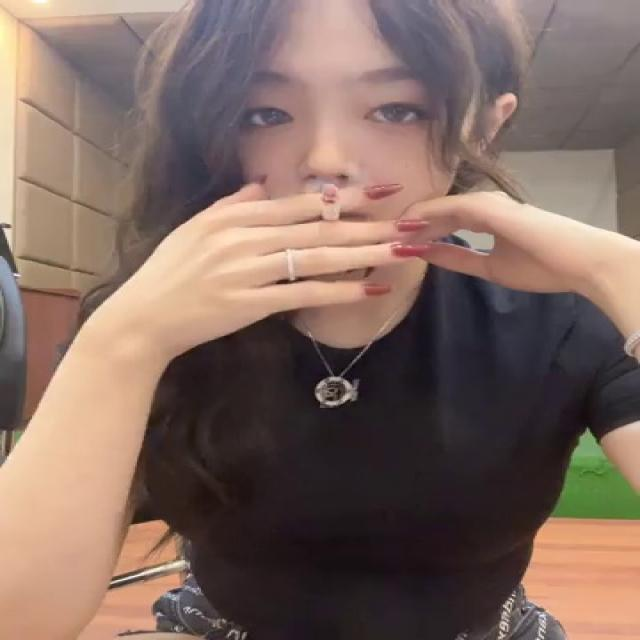Cigarette: (323, 185, 341, 222)
Hand: (122, 180, 434, 347)
Mouth: (288, 210, 370, 224)
